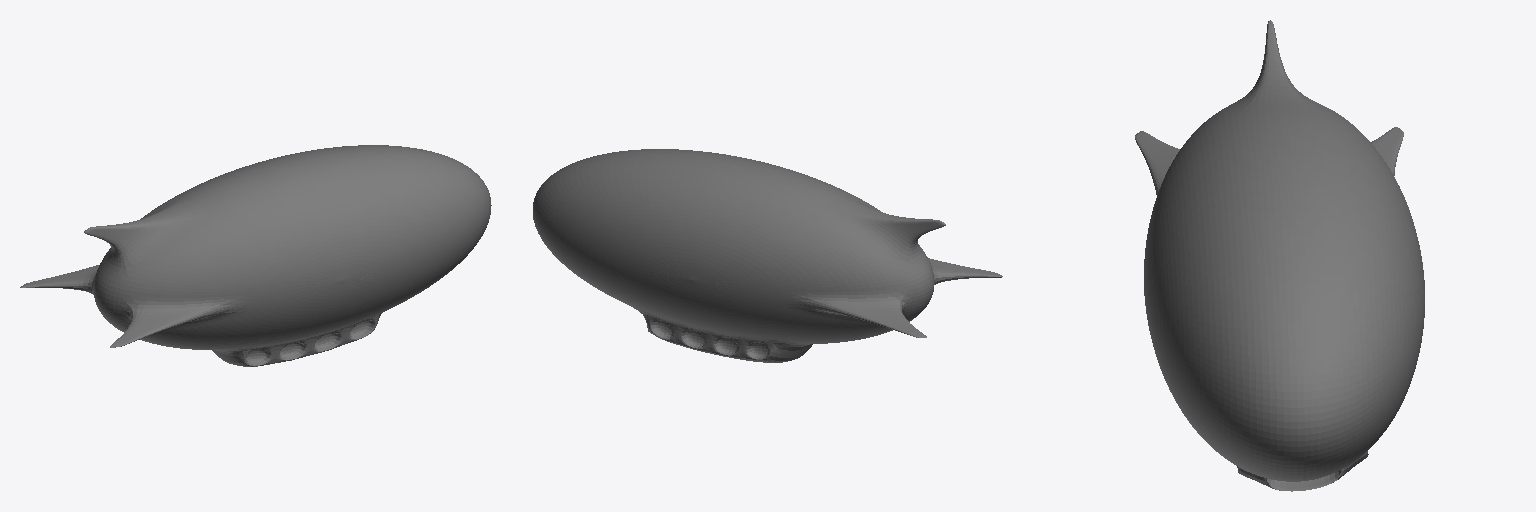
robot.urdf — airplane:
<?xml version="1.0" ?>
<robot name="airplane">
  <link name="planeLink">
  <contact>
      <lateral_friction value="1"/>
  </contact>
    <collision>
      <origin rpy="0 0 0.3" xyz="+1.0 +0.07 +0.05"/>
      <geometry>
        <mesh scale="0.01 0.01 0.01" filename="meshes/zepllin.stl"/>
      </geometry>
       <material name="grey">
        <color rgba="0.5 0.5 0.5 0.5"/>
      </material>
    </collision>
    <visual>
      <origin rpy="0 0 0.3" xyz="+1.0 +0.07 +0.05"/>
      <geometry>
        <mesh scale="0.01 0.01 0.01" filename="meshes/zepllin.stl"/>
      </geometry>
       <material name="grey">
        <color rgba="0.5 0.5 0.5 0.5"/>
      </material>
    </visual>
    <inertial>
      <mass value="10"/>
      <inertia ixx="1e-6" ixy="0.0" ixz="0.0" iyy="0.083" iyz="0.0" izz="0.083"/>
    </inertial>
  </link>
</robot>

--- Facts derived from the render (not from the file) ---
The picture shows the robot from 3 angles, left to right: view 1: azimuth 30°, elevation 25°; view 2: azimuth 150°, elevation 25°; view 3: azimuth 270°, elevation 25°; orthographic projection.
Robot: airplane — 1 links, 0 joints (none); root link planeLink; default pose: all joints at 0.
Links seen in each view (by area): view 1: planeLink; view 2: planeLink; view 3: planeLink.
Boxes of the visible links, x1,y1,x2,y2 form: planeLink: (20, 145, 491, 366); planeLink: (533, 149, 1002, 362); planeLink: (1135, 20, 1424, 491).
Bounding box of the posed robot: 2.17 × 0.8246 × 0.89 m (x, y, z).
1 mesh visuals loaded from 1 distinct referenced files (1 binary STL).